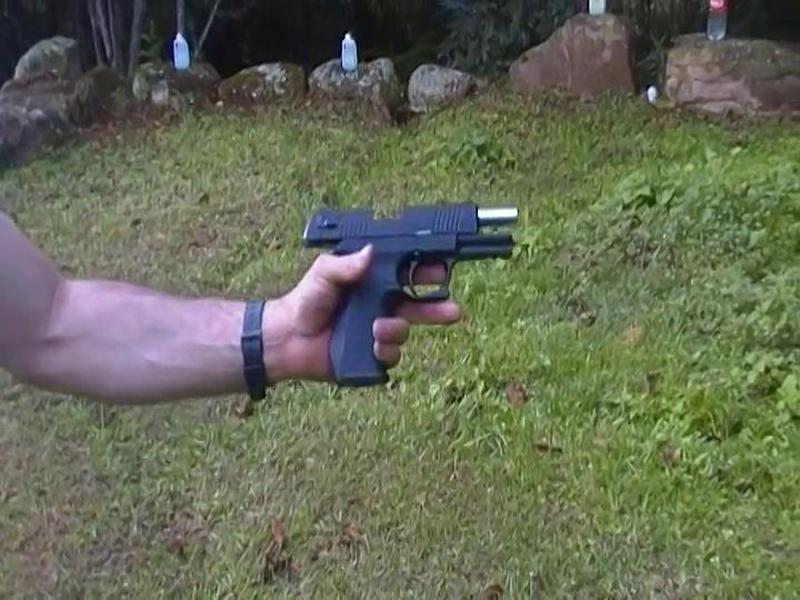Pistola: (295, 201, 525, 391)
